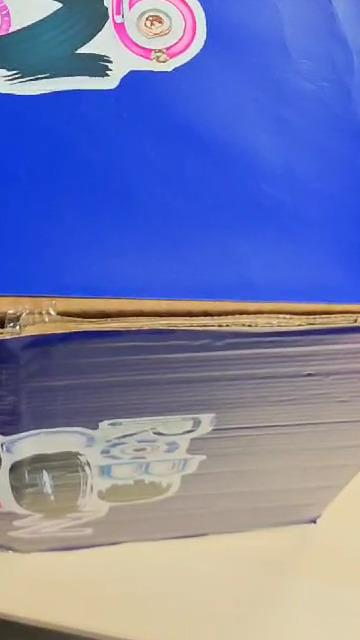B_R1: (0, 415, 213, 538)
